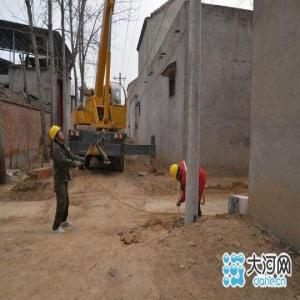yellow: (50, 123, 65, 148), (169, 162, 182, 182)
